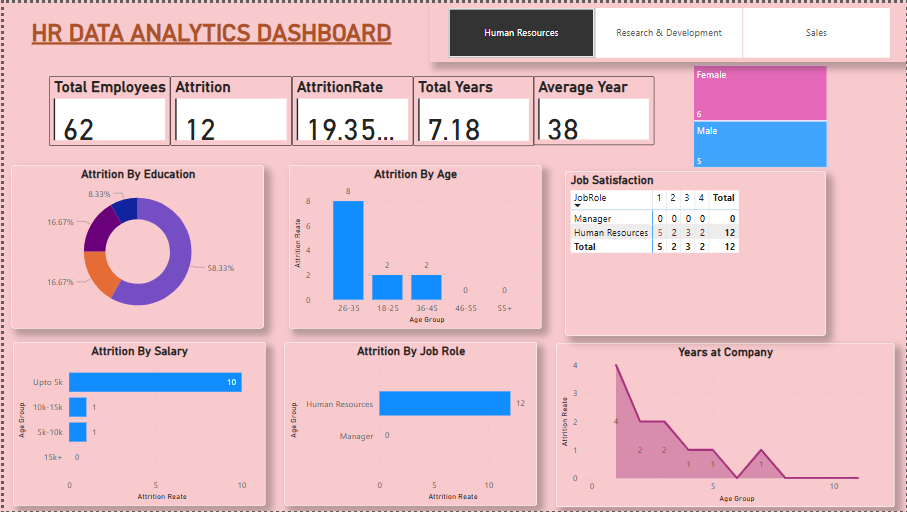

What the dashboard file says about the page in this screenshot:
{"tool":"powerbi","page":{"name":"Page 1","canvas":[1280,720],"ordinal":0},"visuals":[{"type":"cardVisual","title":"Total Employees","fields":{"Data":["CountNonNull(HR_Analytics.EmpID)"]},"box":[64,104,172,98],"z":0},{"type":"cardVisual","title":"Attrition","fields":{"Data":["Sum(HR_Analytics.AttritionRate)"]},"box":[236,104,172,98],"z":1000},{"type":"cardVisual","title":"AttritionRate","fields":{"Data":["HR_Analytics.Attrition_Rate"]},"box":[408,104,172,98],"z":2000},{"type":"cardVisual","title":"Total Years","fields":{"Data":["Avg(HR_Analytics.YearsAtCompany)"]},"box":[580,103.8,171.2,98.8],"z":3000},{"type":"cardVisual","title":"Average Year","fields":{"Data":["Median(HR_Analytics.Age)"]},"box":[751.2,103.8,171.2,97.5],"z":4000},{"type":"donutChart","title":"Attrition By Education","fields":{"Category":["HR_Analytics.EducationField"],"Y":["Sum(HR_Analytics.AttritionRate)"]},"box":[10,230,358,232],"z":5000},{"type":"clusteredColumnChart","title":"Attrition By Age","fields":{"Category":["HR_Analytics.AgeGroup"],"Y":["Sum(HR_Analytics.AttritionRate)"]},"box":[404,230,358,232],"z":6000},{"type":"pivotTable","title":"Job Satisfaction","fields":{"Rows":["HR_Analytics.JobRole"],"Columns":["HR_Analytics.JobSatisfaction"],"Values":["Sum(HR_Analytics.AttritionRate)"]},"box":[796,238,370,234],"z":7000},{"type":"barChart","title":"Attrition By Salary","fields":{"Category":["HR_Analytics.SalarySlab"],"Y":["Sum(HR_Analytics.AttritionRate)"]},"box":[12,480,358,232],"z":8000},{"type":"barChart","title":"Attrition By Job Role","fields":{"Category":["HR_Analytics.JobRole"],"Y":["Sum(HR_Analytics.AttritionRate)"]},"box":[398,480,358,232],"z":9000},{"type":"stackedAreaChart","title":"Years at Company","fields":{"Category":["HR_Analytics.YearsAtCompany"],"Y":["Sum(HR_Analytics.AttritionRate)"]},"box":[784,482,480,232],"z":10000},{"type":"treemap","title":"Gender","fields":{"Group":["HR_Analytics.Gender"],"Values":["Sum(HR_Analytics.AttritionRate)"]},"box":[972.5,83.8,200,155],"z":11000},{"type":"slicer","fields":{"Values":["HR_Analytics.Department"]},"box":[604,0,676,84],"z":12000},{"type":"textbox","box":[34,16,546,68],"z":13000}]}

Visuals, with their boxes in screenshot pixels (x1, y1, x2, y2), scaled from the page's 1280x720 canvas onto the 907x512 screenshot:
"Total Employees" cardVisual: (45, 74, 167, 144)
"Attrition" cardVisual: (167, 74, 289, 144)
"AttritionRate" cardVisual: (289, 74, 411, 144)
"Total Years" cardVisual: (411, 74, 532, 144)
"Average Year" cardVisual: (532, 74, 654, 143)
"Attrition By Education" donutChart: (7, 164, 261, 329)
"Attrition By Age" clusteredColumnChart: (286, 164, 540, 329)
"Job Satisfaction" pivotTable: (564, 169, 826, 336)
"Attrition By Salary" barChart: (9, 341, 262, 506)
"Attrition By Job Role" barChart: (282, 341, 536, 506)
"Years at Company" stackedAreaChart: (556, 343, 896, 508)
"Gender" treemap: (689, 60, 831, 170)
slicer - HR_Analytics.Department: (428, 0, 906, 60)
textbox: (24, 11, 411, 60)
